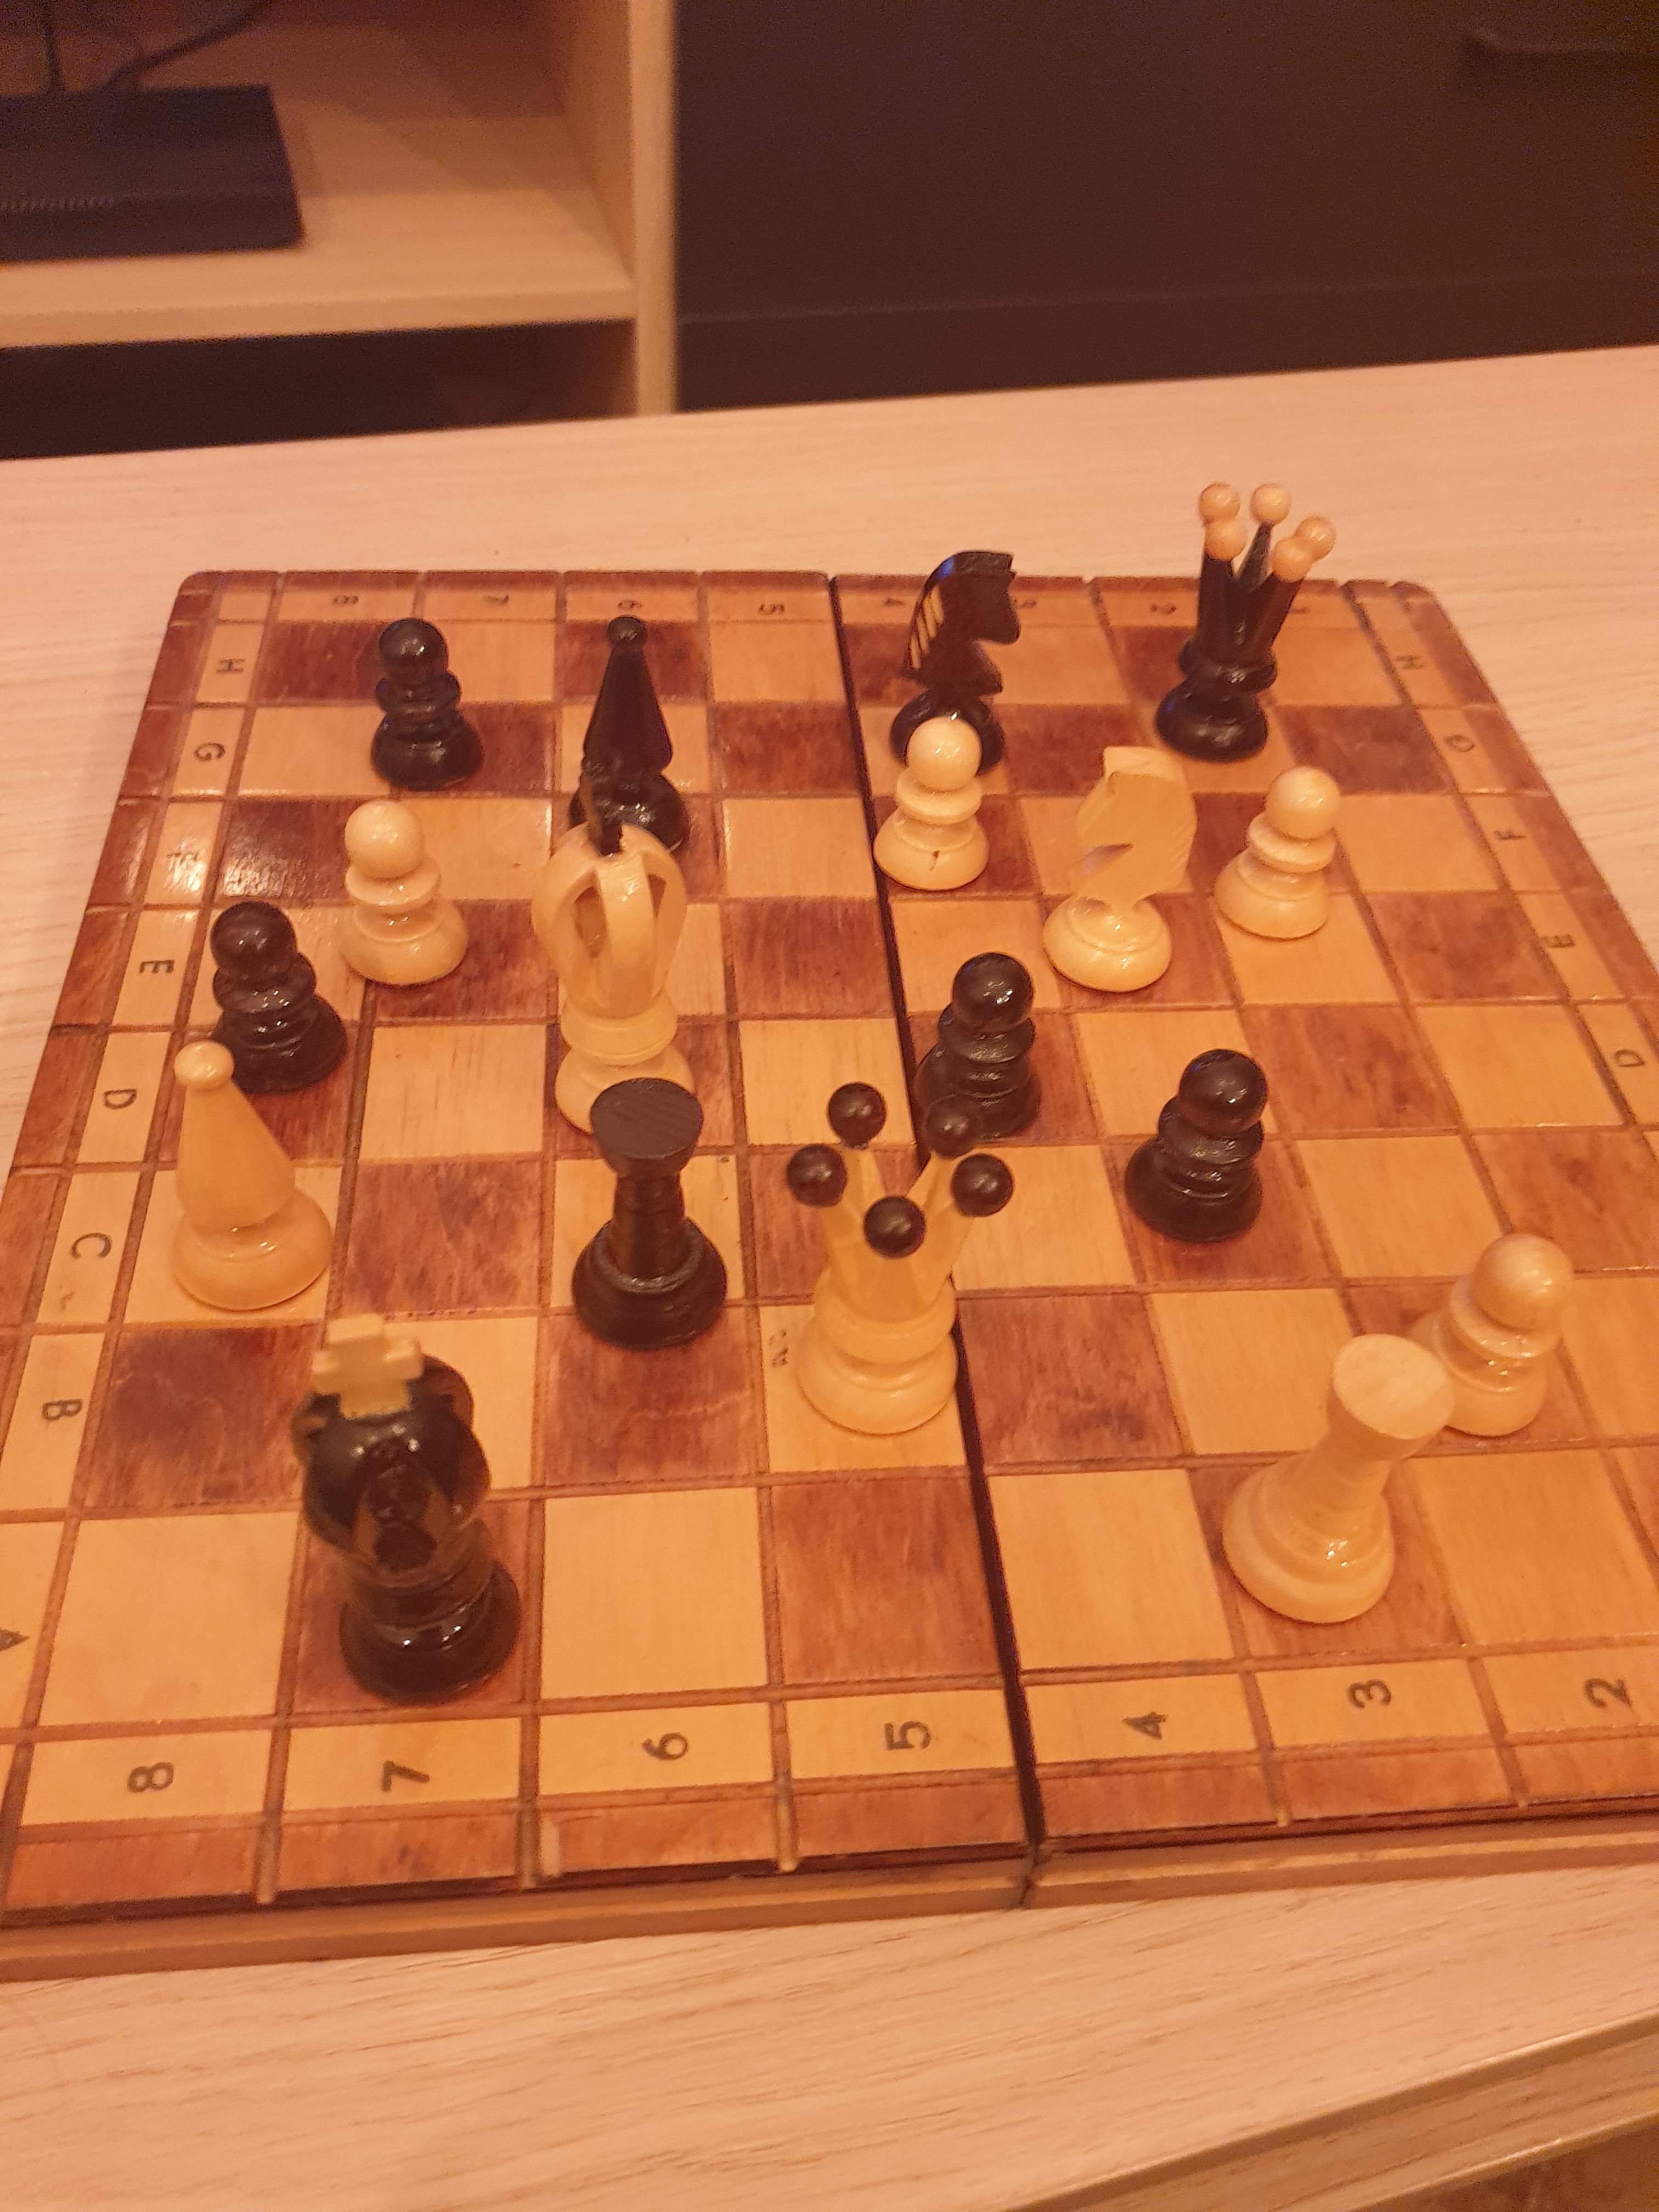bbishop: (554, 594, 713, 897)
bking: (279, 1301, 559, 1730)
bknight: (885, 542, 1028, 792)
bpawn: (894, 932, 1068, 1169), (1117, 1036, 1283, 1266), (197, 890, 354, 1111), (356, 610, 491, 803)
bqueen: (1140, 472, 1344, 777)
brook: (554, 1064, 746, 1366)
wbishop: (145, 1014, 354, 1329)
wking: (509, 761, 718, 1174)
wknight: (1037, 735, 1206, 998)
wpawn: (1387, 1207, 1579, 1465), (322, 784, 479, 998), (859, 704, 1007, 902), (1204, 758, 1351, 953)
wqueen: (760, 1069, 1032, 1458)
wrook: (1206, 1324, 1466, 1646)
